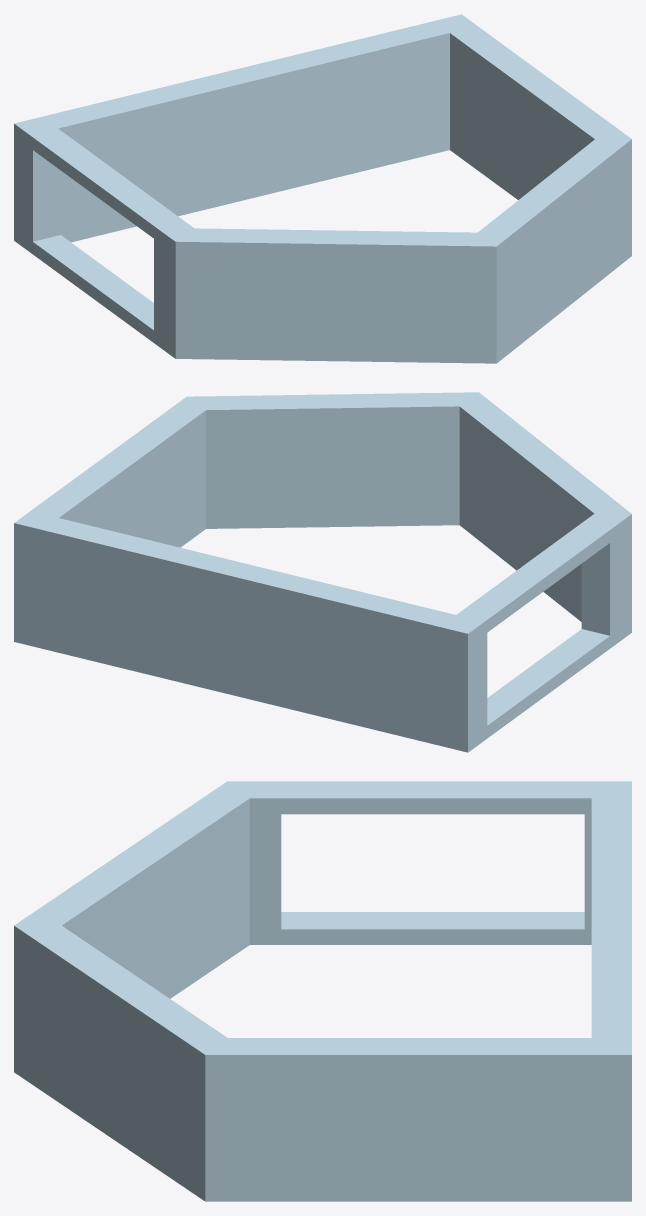
Rendered from big window.glb.
3 views of the same model, one above another, from view 1: azimuth 30°, elevation 25°; view 2: azimuth 150°, elevation 25°; view 3: azimuth 270°, elevation 25° (orthographic). The views are drawn at different scales.
Parts seen in each view (by area): view 1: endwall; view 2: endwall; view 3: endwall.
Part boxes in pixels (x1,y1,x2,y2): endwall: [14, 14, 631, 363]; endwall: [14, 392, 631, 752]; endwall: [14, 781, 631, 1201].
Bounding box in the file's own units: 4.8 × 1.2 × 4.58.
